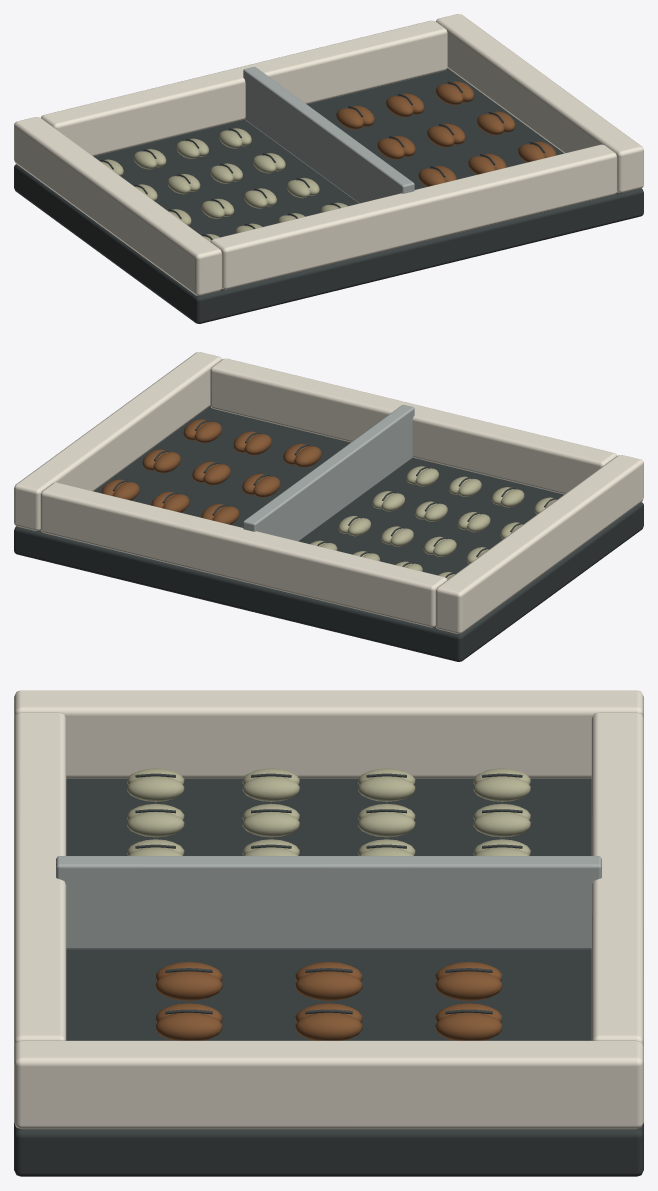
File: coffee-roastery-and-cupping-room-coffee-roastery-and-c-137c27cf__32183.glb
The picture shows the model from 3 angles, top to bottom: view 1: azimuth 30°, elevation 25°; view 2: azimuth 150°, elevation 25°; view 3: azimuth 270°, elevation 25°; orthographic projection. The views are drawn at different scales.
Visible parts, largest first — view 1: coffee-roastery-and-cupping-room-defect-sorting-tray; view 2: coffee-roastery-and-cupping-room-defect-sorting-tray; view 3: coffee-roastery-and-cupping-room-defect-sorting-tray.
Boxes of the visible parts, box(x1,y1,x2,y2) form: coffee-roastery-and-cupping-room-defect-sorting-tray: box(14, 14, 643, 323); coffee-roastery-and-cupping-room-defect-sorting-tray: box(14, 352, 643, 661); coffee-roastery-and-cupping-room-defect-sorting-tray: box(14, 690, 643, 1176).
Bounding box in the file's own units: 0.42 × 0.07 × 0.3.
